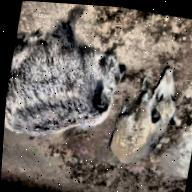boar: (2, 3, 146, 170)
